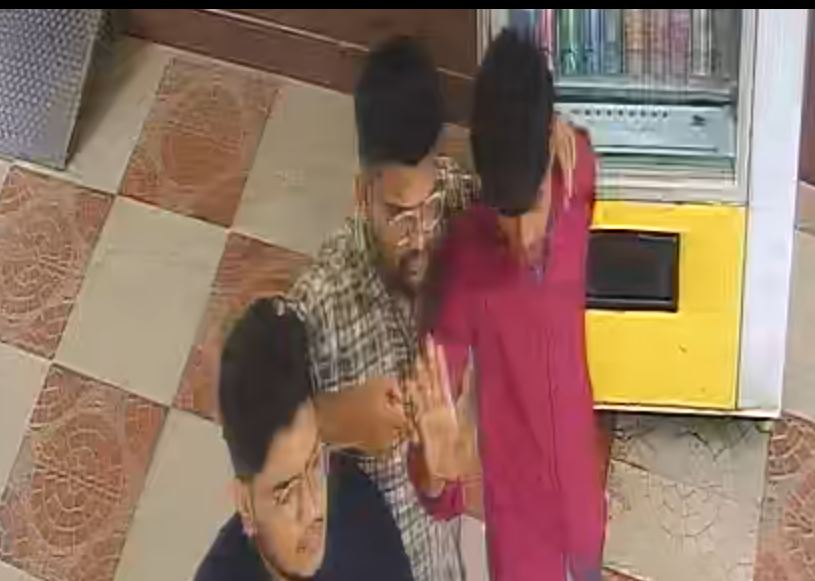intruder: (283, 40, 475, 581), (450, 39, 605, 581)
